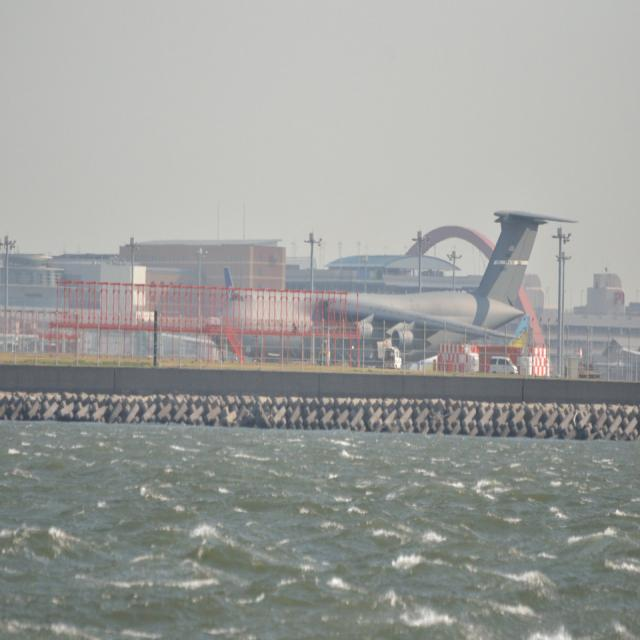MIL_Plane: (211, 210, 578, 367)
